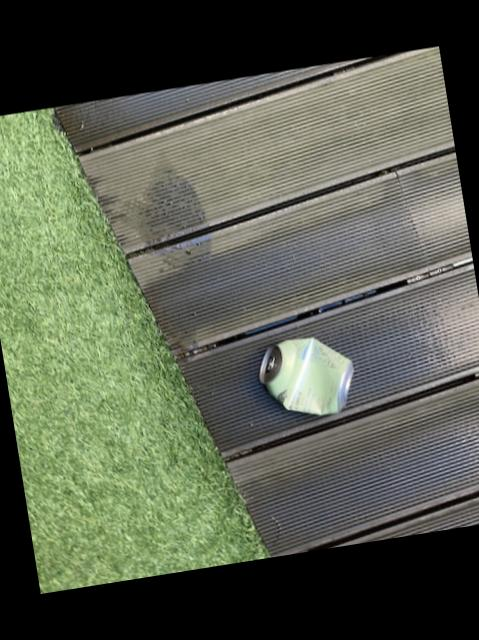metal: (259, 337, 352, 415)
